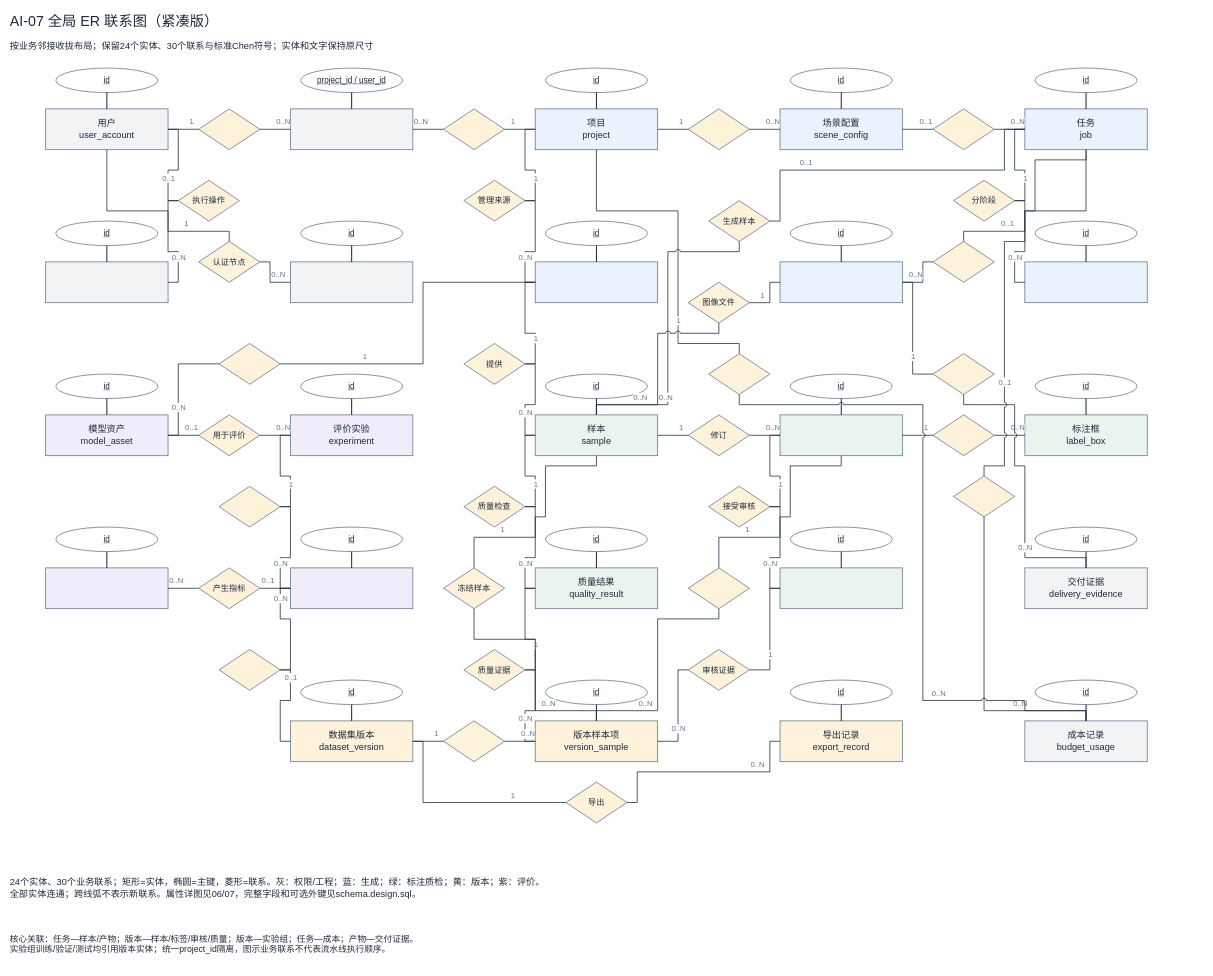
This 1213x976 diagram has some shape labels left out. The shapes that lost their labels are listed below. From the top down, each one's box as (x1, y1, x2, y2) in pixels, then its label:
(198, 108, 260, 150): 加入
(290, 108, 413, 150): 项目成员 project_member
(443, 108, 505, 150): 设成员
(688, 108, 750, 150): 配置
(932, 108, 994, 150): 采用
(932, 241, 994, 282): 产生文件
(45, 261, 168, 303): 审计事件 audit_event
(290, 261, 413, 303): 计算节点 worker_node
(535, 261, 658, 303): 数据来源 source_record
(779, 261, 903, 303): 产物 artifact
(1024, 261, 1147, 303): 任务阶段 job_stage
(218, 343, 280, 384): 授权模型
(708, 353, 770, 395): 归属成本
(932, 353, 994, 395): 交付证据
(779, 414, 903, 456): 标签修订 annotation_revision
(932, 414, 994, 456): 包含
(218, 486, 280, 527): 设置
(953, 475, 1015, 517): 资源计量
(45, 567, 168, 609): 指标结果 metric_result
(290, 567, 413, 609): 实验组 experiment_arm
(688, 567, 750, 609): 冻结标签
(779, 567, 903, 609): 审核决定 review_decision
(218, 649, 280, 690): 训练集
(443, 720, 505, 762): 收录
